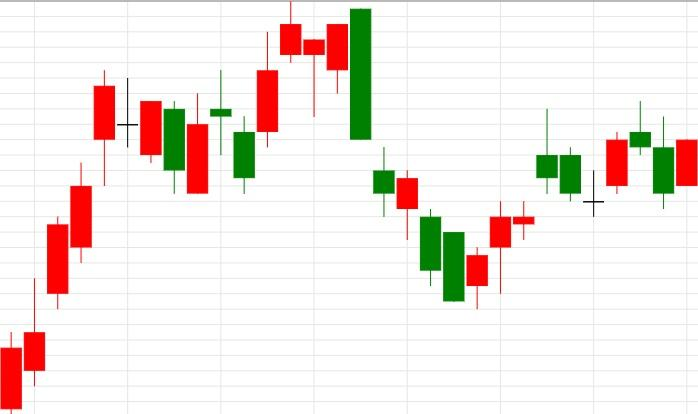bearish_engulfing_fall: (233, 0, 373, 194)
shooting_star_fall: (442, 109, 559, 310)
